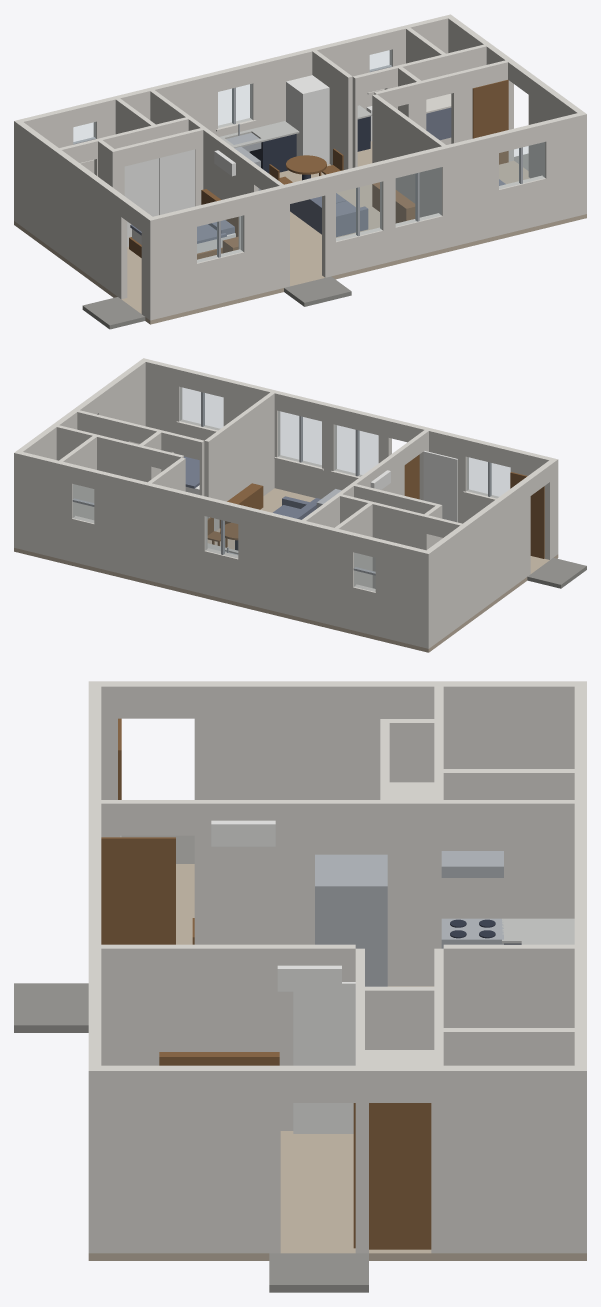
Rendered from adu-740.glb.
3 renders of one model, top to bottom at view 1: azimuth 30°, elevation 25°; view 2: azimuth 150°, elevation 25°; view 3: azimuth 270°, elevation 25°, orthographic. The views are drawn at different scales.
Parts seen in each view (by area): view 1: wall_ext_west_pier1, floor_slab, wall_ext_south_pier5, wall_ext_south_pier1, wall_ext_south_pier2, wall_ext_north_pier3, wall_ext_south_pier6, wall_bed2_west_pier1, wall_ext_north_pier2, wall_int_master_pier1, washer_dryer, wall_kitchen_east_pier1 (+54 smaller); view 2: wall_ext_north_pier2, wall_ext_north_pier3, wall_ext_west_pier1, wall_ext_north_pier4, wall_bed2_west_pier1, wall_ext_north_pier1, floor_slab, wall_bath2_south_pier2, wall_mbath_south_pier2, wall_ext_south_pier6, wall_ext_east_pier3, wall_int_master_pier1 (+45 smaller); view 3: wall_int_master_pier1, wall_ext_west_pier1, wall_ext_east_pier3, wall_ext_east_pier1, wall_bed2_west_pier1, floor_slab, wall_kitchen_east_pier1, door_07_waterheater, door_03_entry_south, refrigerator, door_05_bed2, wall_bath2_tub_pier1 (+25 smaller).
Boxes of the visible parts, x1,y1,x2,y2 form: wall_ext_west_pier1: [17, 122, 127, 299]; floor_slab: [14, 141, 586, 324]; wall_ext_south_pier5: [439, 133, 498, 248]; wall_ext_south_pier1: [147, 207, 196, 320]; wall_ext_south_pier2: [240, 184, 289, 297]; wall_ext_north_pier3: [250, 35, 369, 128]; wall_ext_south_pier6: [542, 111, 586, 223]; wall_bed2_west_pier1: [372, 94, 445, 217]; wall_ext_north_pier2: [93, 72, 217, 138]; wall_int_master_pier1: [150, 90, 258, 199]; washer_dryer: [286, 75, 329, 164]; wall_kitchen_east_pier1: [312, 50, 352, 169]; wall_ext_north_pier2: [238, 505, 356, 630]; wall_ext_north_pier3: [94, 470, 207, 593]; wall_ext_west_pier1: [427, 478, 530, 646]; wall_ext_north_pier4: [14, 450, 74, 561]; wall_bed2_west_pier1: [204, 392, 274, 531]; wall_ext_north_pier1: [375, 539, 431, 648]; floor_slab: [14, 488, 558, 652]; wall_bath2_south_pier2: [56, 425, 153, 482]; wall_mbath_south_pier2: [340, 494, 429, 588]; wall_ext_south_pier6: [140, 358, 182, 454]; wall_ext_east_pier3: [94, 360, 145, 444]; wall_int_master_pier1: [302, 447, 404, 527]; wall_int_master_pier1: [194, 800, 574, 986]; wall_ext_west_pier1: [194, 681, 574, 799]; wall_ext_east_pier3: [101, 1065, 280, 1253]; wall_ext_east_pier1: [431, 1065, 574, 1253]; wall_bed2_west_pier1: [101, 944, 355, 1130]; floor_slab: [88, 864, 586, 1260]; wall_kitchen_east_pier1: [443, 944, 574, 1027]; door_07_waterheater: [369, 1103, 431, 1249]; door_03_entry_south: [101, 837, 175, 944]; refrigerator: [315, 854, 387, 986]; door_05_bed2: [293, 982, 355, 1133]; wall_bath2_tub_pier1: [434, 1028, 574, 1065].
Bounding box in the file's own units: 13.11 × 2.57 × 7.01.
